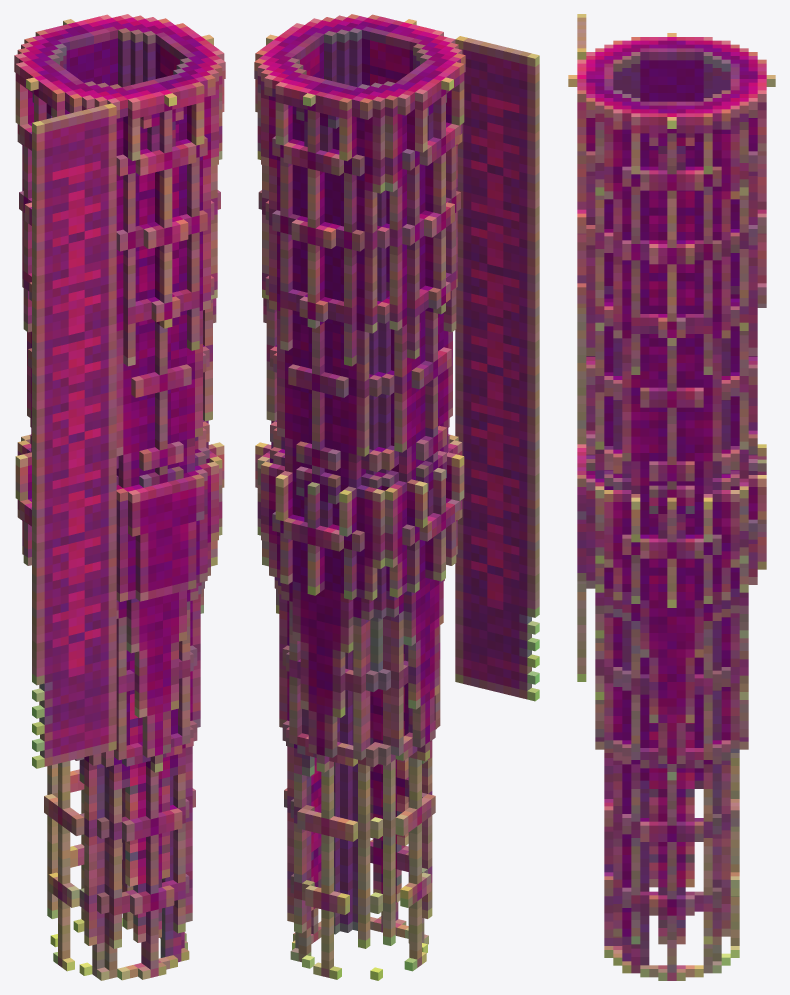
Rendered from armor_set3_legs.glb.
3 views of the same model, side by side, from view 1: azimuth 30°, elevation 25°; view 2: azimuth 150°, elevation 25°; view 3: azimuth 270°, elevation 25° (orthographic). The views are drawn at different scales.
Visible parts, largest first — view 1: Set3_FurnaceGrateLegCage_7mm; view 2: Set3_FurnaceGrateLegCage_7mm; view 3: Set3_FurnaceGrateLegCage_7mm.
Boxes of the visible parts, bbox=[...] form: Set3_FurnaceGrateLegCage_7mm: bbox=[14, 14, 225, 980]; Set3_FurnaceGrateLegCage_7mm: bbox=[254, 14, 539, 980]; Set3_FurnaceGrateLegCage_7mm: bbox=[568, 14, 775, 980].
Size of the model in its own units: 0.196 by 0.749 by 0.161.
